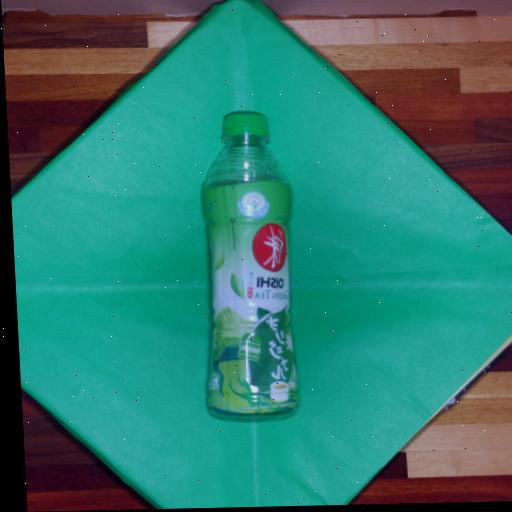bottle: (203, 112, 298, 416)
